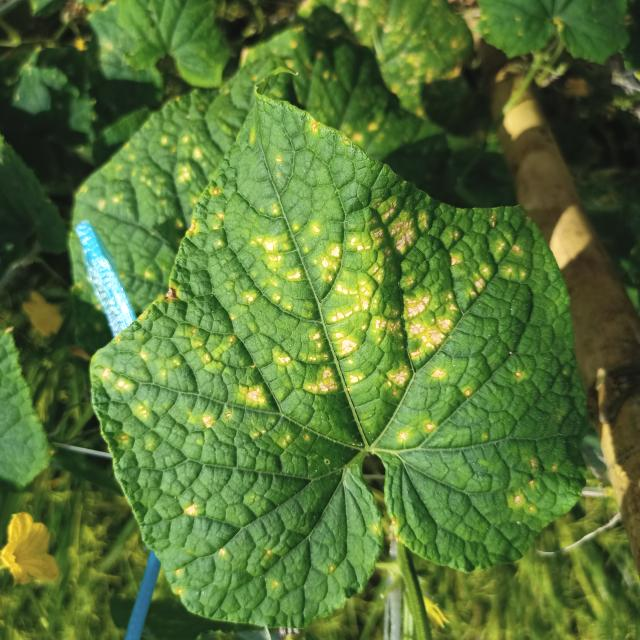disease_cucumber: (97, 147, 571, 598)
